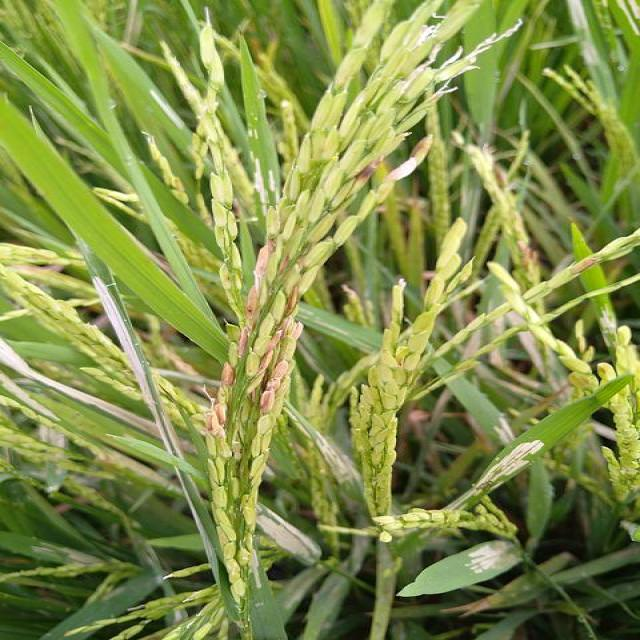Panicle Blight: (245, 287, 299, 397), (261, 328, 301, 421), (352, 145, 427, 185), (201, 363, 235, 445), (236, 288, 259, 358), (252, 236, 275, 302)
